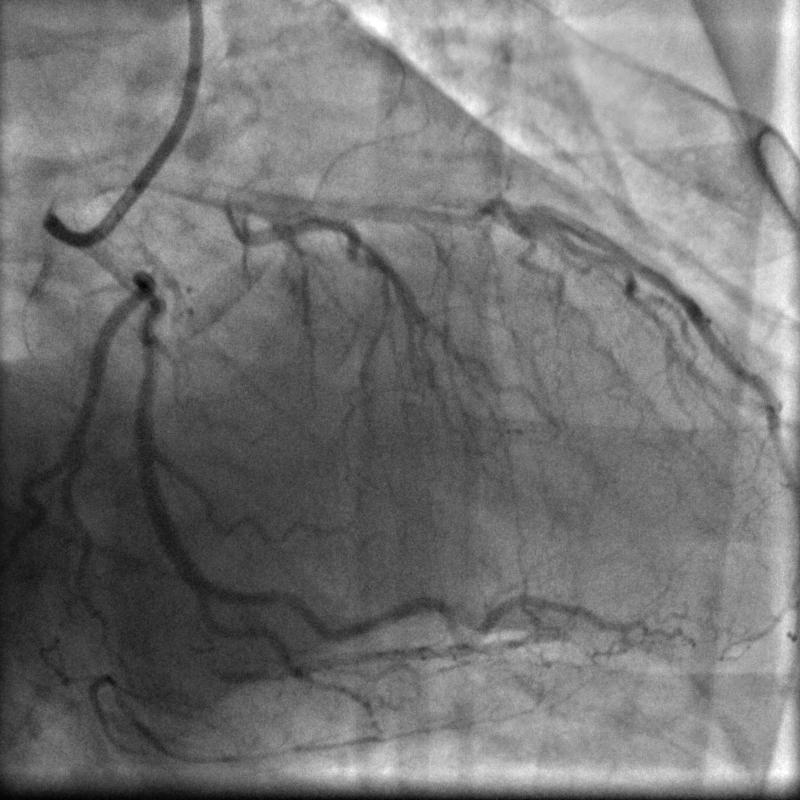Stenosis: (133, 279, 163, 350)
